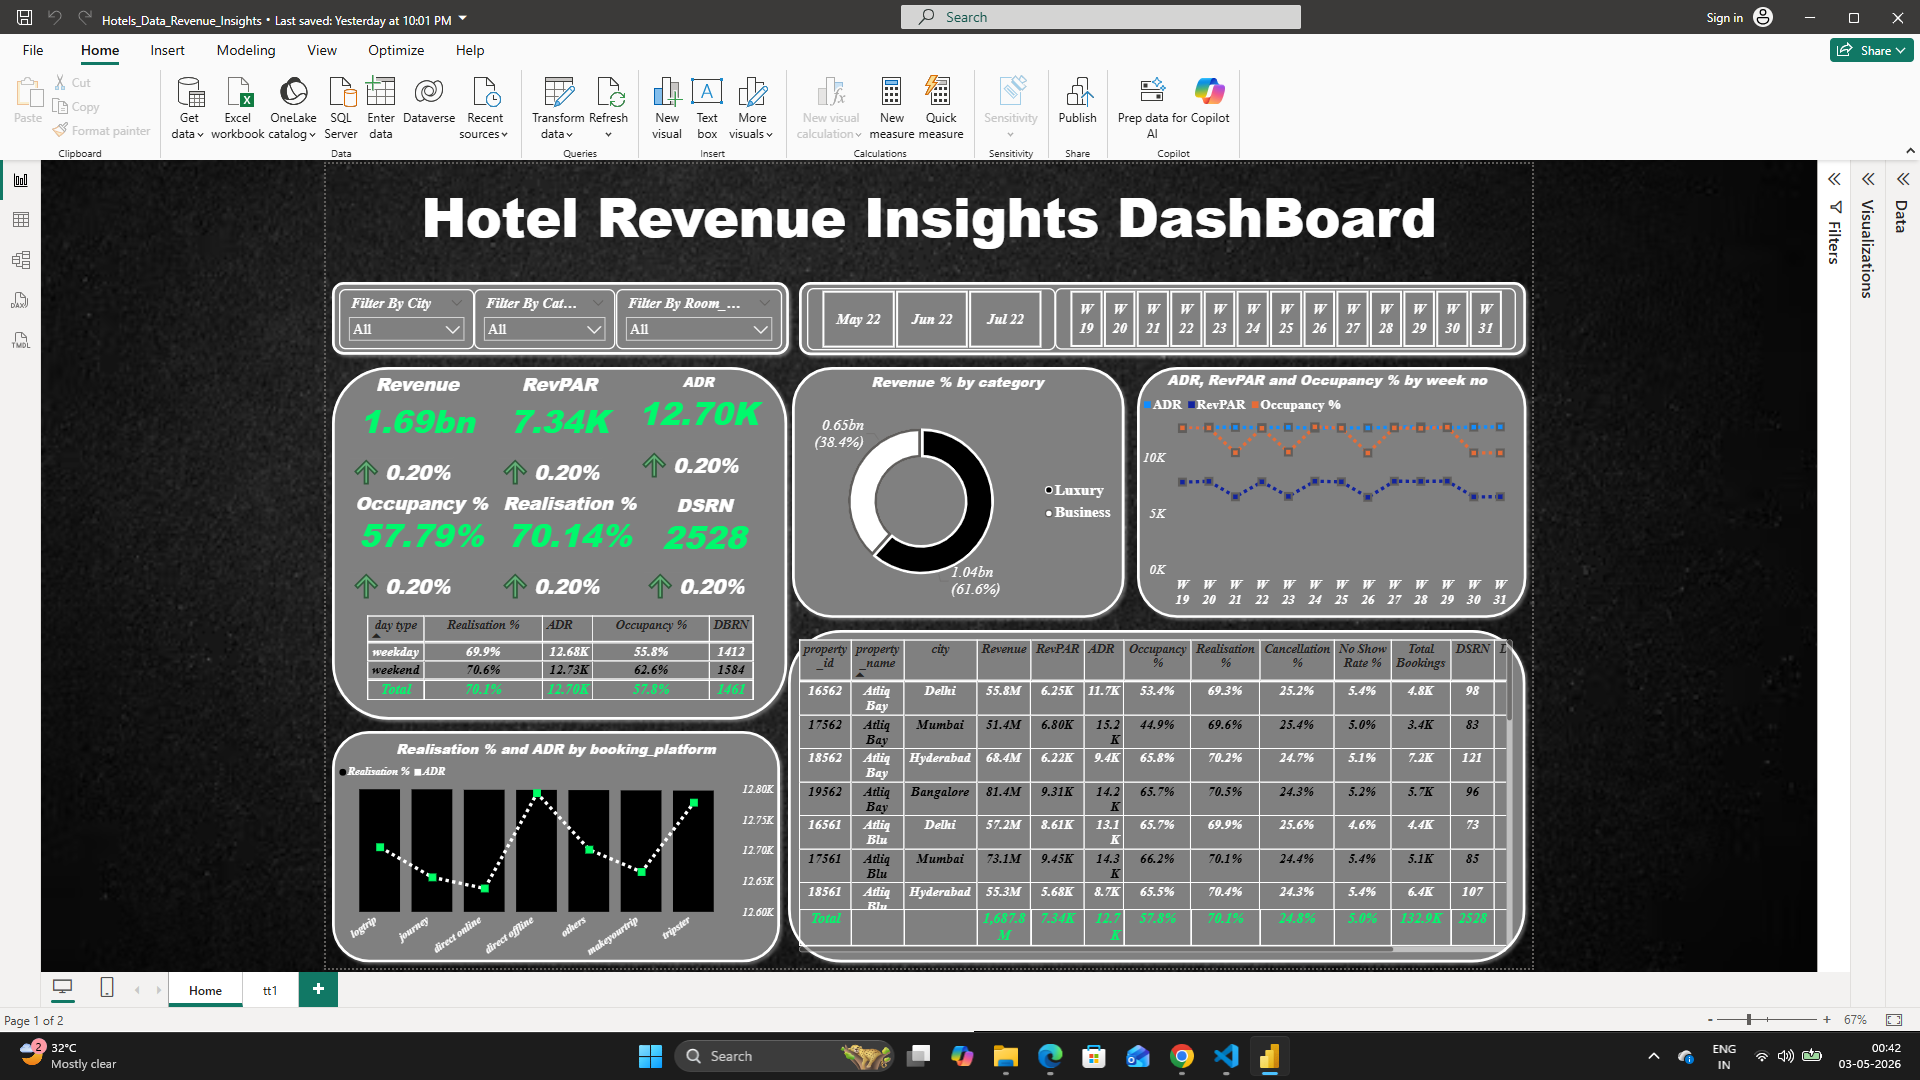

The dashboard page shown, as its layout file describes it:
{"tool":"powerbi","page":{"name":"Home","canvas":[1800,1200],"ordinal":0},"visuals":[{"type":"shape","box":[0,167.7,699.9,126.4],"z":0},{"type":"shape","box":[697.2,167,1102.8,127.2],"z":1000},{"type":"slicer","fields":{"Values":["dim_hotels.category"]},"box":[221.1,187.1,211.4,89.9],"z":2000},{"type":"slicer","fields":{"Values":["dim_hotels.city"]},"box":[19.4,187.1,201.7,89.9],"z":3000},{"type":"slicer","fields":{"Values":["dim_rooms.room_class"]},"box":[432.6,187.1,247.9,89.9],"z":4000},{"type":"slicer","fields":{"Values":["dim_date.mmm yy"]},"box":[718.4,185.6,371.1,92.8],"z":5000},{"type":"slicer","fields":{"Values":["dim_date.week no"]},"box":[1088.7,184.7,687.7,92.3],"z":6000},{"type":"shape","box":[0,294,697.4,544.3],"z":7000},{"type":"card","title":"Revenue","fields":{"Values":["imp_measures.Revenue"]},"box":[19.4,311.1,233.3,102.1],"z":8000},{"type":"card","title":"RevPAR","fields":{"Values":["imp_measures.RevPAR"]},"box":[252.7,311.1,192,102.1],"z":9000},{"type":"card","title":"ADR","fields":{"Values":["imp_measures.ADR"]},"box":[459.3,311.1,192,85.1],"z":10000},{"type":"card","title":"Occupancy %","fields":{"Values":["imp_measures.Occupancy %"]},"box":[41.3,488.5,201.7,85.1],"z":11000},{"type":"card","title":"DSRN","fields":{"Values":["imp_measures.DSRN"]},"box":[469,490.9,192,85.1],"z":12000},{"type":"card","title":"Realisation %","fields":{"Values":["imp_measures.Realisation %"]},"box":[257.6,488.5,211.4,85.1],"z":13000},{"type":"tableEx","fields":{"Values":["imp_measures.Revenue WOW Change %"]},"box":[29.2,405.8,240.6,85.1],"z":14000},{"type":"tableEx","fields":{"Values":["imp_measures.RevPAR WOW Change %"]},"box":[252.7,405.8,228.4,92.3],"z":15000},{"type":"tableEx","fields":{"Values":["imp_measures.RevPAR WOW Change %"]},"box":[252.7,575.9,228.4,92.3],"z":16000},{"type":"tableEx","fields":{"Values":["imp_measures.RevPAR WOW Change %"]},"box":[469,575.9,228.4,92.3],"z":17000},{"type":"tableEx","fields":{"Values":["imp_measures.RevPAR WOW Change %"]},"box":[29.2,575.9,228.4,92.3],"z":18000},{"type":"tableEx","fields":{"Values":["imp_measures.RevPAR WOW Change %"]},"box":[459.3,396.1,228.4,92.3],"z":19000},{"type":"tableEx","fields":{"Values":["dim_date.day type","imp_measures.Realisation %","imp_measures.ADR","imp_measures.Occupancy %","imp_measures.DBRN"]},"box":[55.7,668.4,606.3,138],"z":20000},{"type":"shape","box":[686.6,294.3,514.3,392.4],"z":21000},{"type":"donutChart","title":"Revenue % by category","fields":{"Category":["dim_hotels.category"],"Y":["imp_measures.Revenue"]},"box":[699.9,310.2,485.1,357.9],"z":22000},{"type":"shape","box":[1200.9,294.3,599.1,392.4],"z":23000},{"type":"lineChart","fields":{"Y":["imp_measures.ADR","imp_measures.RevPAR"],"Y2":["imp_measures.Occupancy %"],"Category":["dim_date.week no"]},"box":[1214.2,307.5,562,360.5],"z":24000},{"type":"shape","box":[0,837.7,686.6,363.2],"z":25000},{"type":"lineStackedColumnComboChart","fields":{"Category":["fact_bookings.booking_platform"],"Y":["imp_measures.Realisation %"],"Y2":["imp_measures.ADR"]},"box":[13.3,858.9,660.1,342],"z":26000},{"type":"shape","box":[681.3,686.6,1118.7,514.3],"z":27000},{"type":"tableEx","fields":{"Values":["dim_hotels.property_id","dim_hotels.property_name","dim_hotels.city","imp_measures.Revenue","imp_measures.RevPAR","imp_measures.ADR","imp_measures.Occupancy %","imp_measures.Realisation %","imp_measures.Cancellation %","imp_measures.No Show Rate %","imp_measures.Total Bookings","imp_measures.DSRN"]},"box":[699.9,705.2,1076.3,477.2],"z":27001},{"type":"textbox","box":[0,15.9,1800,151.1],"z":27002}]}

Visuals, with their boxes on the page's 1800x1200 design canvas (x1, y1, x2, y2). These are canvas units, not pixel positions in the 1920x1080 screenshot, which may show the page scaled, cropped or inside an application window:
shape: pyautogui.locateOnScreen(0, 168, 700, 294)
shape: pyautogui.locateOnScreen(697, 167, 1800, 294)
slicer - dim_hotels.category: pyautogui.locateOnScreen(221, 187, 432, 277)
slicer - dim_hotels.city: pyautogui.locateOnScreen(19, 187, 221, 277)
slicer - dim_rooms.room_class: pyautogui.locateOnScreen(433, 187, 680, 277)
slicer - dim_date.mmm yy: pyautogui.locateOnScreen(718, 186, 1090, 278)
slicer - dim_date.week no: pyautogui.locateOnScreen(1089, 185, 1776, 277)
shape: pyautogui.locateOnScreen(0, 294, 697, 838)
"Revenue" card: pyautogui.locateOnScreen(19, 311, 253, 413)
"RevPAR" card: pyautogui.locateOnScreen(253, 311, 445, 413)
"ADR" card: pyautogui.locateOnScreen(459, 311, 651, 396)
"Occupancy %" card: pyautogui.locateOnScreen(41, 488, 243, 574)
"DSRN" card: pyautogui.locateOnScreen(469, 491, 661, 576)
"Realisation %" card: pyautogui.locateOnScreen(258, 488, 469, 574)
tableEx - imp_measures.Revenue WOW Change %: pyautogui.locateOnScreen(29, 406, 270, 491)
tableEx - imp_measures.RevPAR WOW Change %: pyautogui.locateOnScreen(253, 406, 481, 498)
tableEx - imp_measures.RevPAR WOW Change %: pyautogui.locateOnScreen(253, 576, 481, 668)
tableEx - imp_measures.RevPAR WOW Change %: pyautogui.locateOnScreen(469, 576, 697, 668)
tableEx - imp_measures.RevPAR WOW Change %: pyautogui.locateOnScreen(29, 576, 258, 668)
tableEx - imp_measures.RevPAR WOW Change %: pyautogui.locateOnScreen(459, 396, 688, 488)
tableEx - dim_date.day type x imp_measures.Realisation %: pyautogui.locateOnScreen(56, 668, 662, 806)
shape: pyautogui.locateOnScreen(687, 294, 1201, 687)
"Revenue % by category" donutChart: pyautogui.locateOnScreen(700, 310, 1185, 668)
shape: pyautogui.locateOnScreen(1201, 294, 1800, 687)
lineChart - imp_measures.ADR x imp_measures.RevPAR: pyautogui.locateOnScreen(1214, 308, 1776, 668)
shape: pyautogui.locateOnScreen(0, 838, 687, 1201)
lineStackedColumnComboChart - fact_bookings.booking_platform x imp_measures.Realisation %: pyautogui.locateOnScreen(13, 859, 673, 1201)
shape: pyautogui.locateOnScreen(681, 687, 1800, 1201)
tableEx - dim_hotels.property_id x dim_hotels.property_name: pyautogui.locateOnScreen(700, 705, 1776, 1182)
textbox: pyautogui.locateOnScreen(0, 16, 1800, 167)
